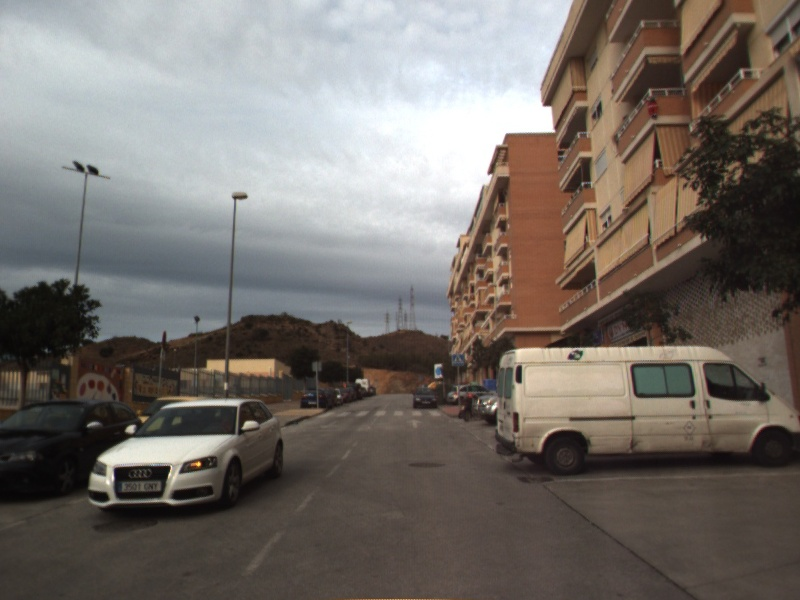STRAIGHT: (404, 417, 425, 430)
